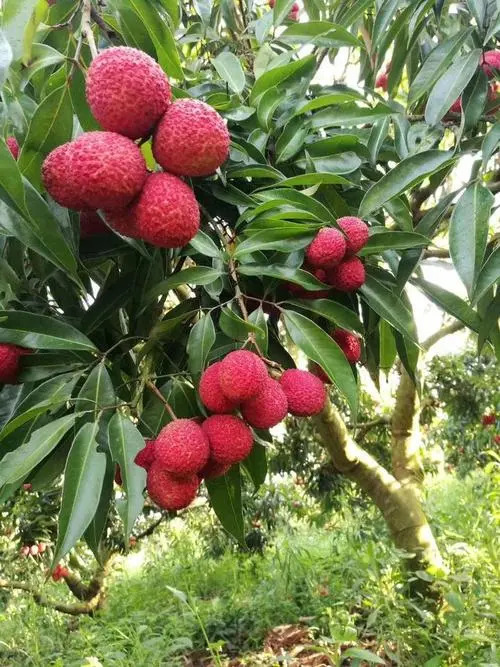litchi: (54, 56, 221, 237), (298, 216, 377, 373), (136, 417, 258, 502), (200, 353, 323, 422)
stem: (206, 211, 260, 347), (137, 327, 158, 386), (73, 1, 97, 47)
